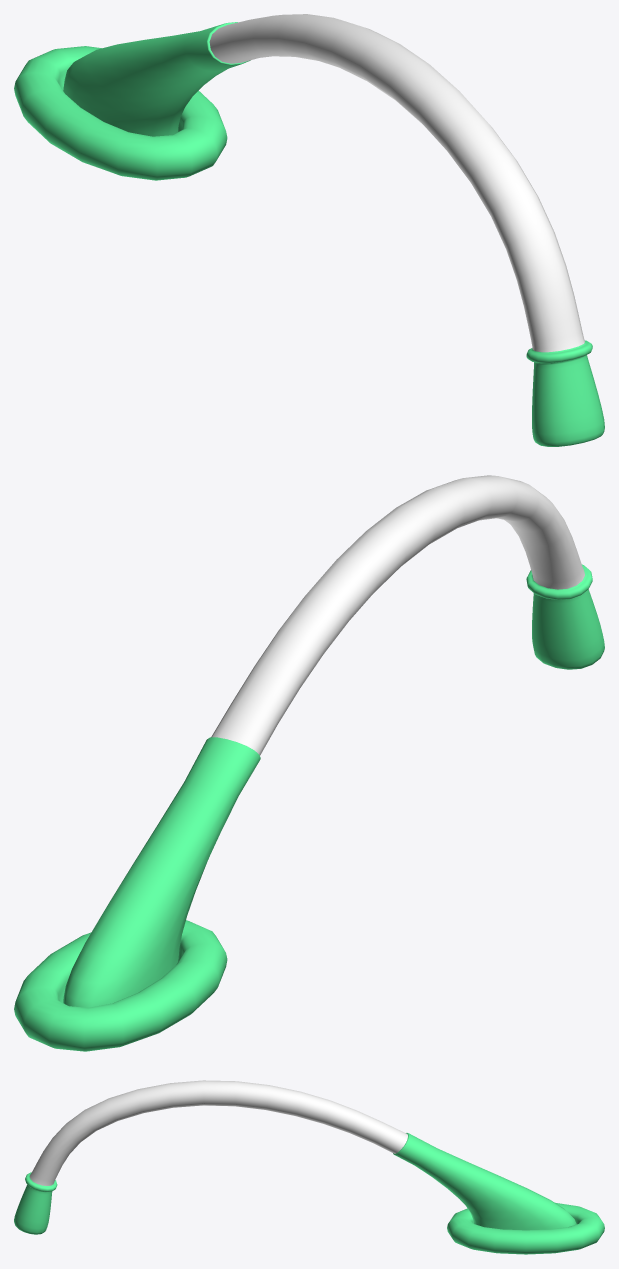
File: SM_LaryngealMask.fbx
The picture shows the model from 3 angles, top to bottom: view 1: azimuth 30°, elevation 25°; view 2: azimuth 150°, elevation 25°; view 3: azimuth 270°, elevation 25°; orthographic projection. The views are drawn at different scales.
Parts seen in each view (by area): view 1: Cube.004, Cube.003, Cube.002, Cube.005; view 2: Cube.004, Cube.002, Cube.003, Cube.005; view 3: Cube.004, Cube.002, Cube.003, Cube.005.
Boxes of the visible parts, x1,y1,x2,y2 form: Cube.004: [209, 14, 584, 352]; Cube.003: [14, 46, 227, 180]; Cube.002: [63, 22, 250, 136]; Cube.005: [526, 340, 604, 446]; Cube.004: [211, 475, 584, 755]; Cube.002: [63, 737, 260, 1007]; Cube.003: [14, 920, 227, 1051]; Cube.005: [526, 564, 604, 669]; Cube.004: [30, 1080, 407, 1185]; Cube.002: [393, 1133, 576, 1230]; Cube.003: [447, 1202, 604, 1254]; Cube.005: [14, 1172, 57, 1234].
Bounding box in the file's own units: 7.58 × 13.59 × 46.68.
